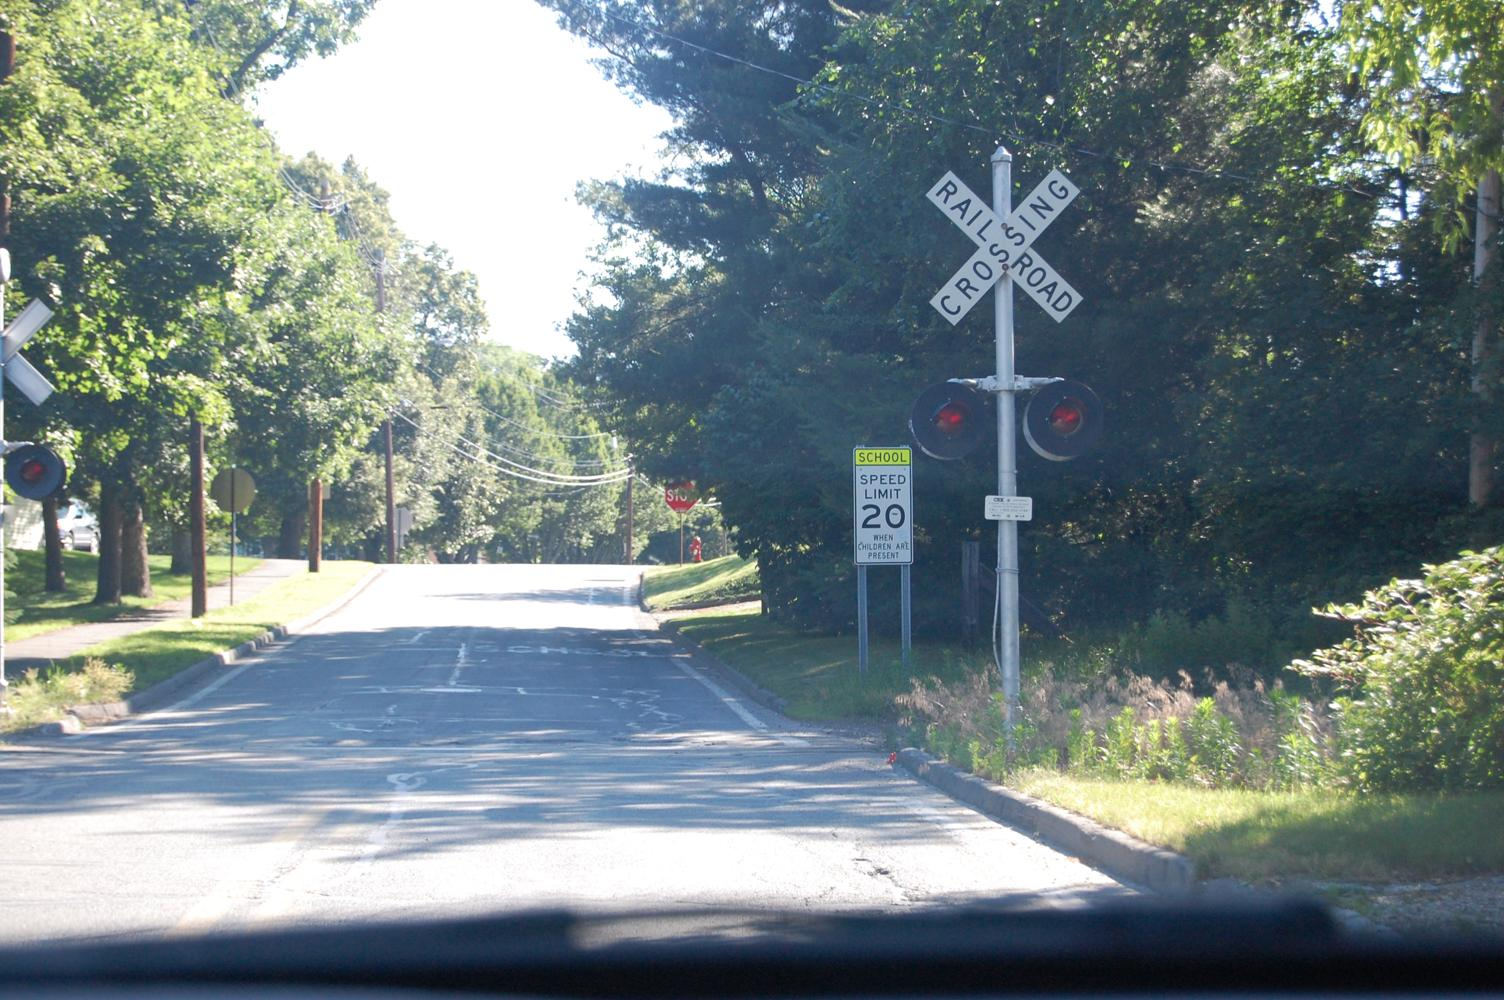stop: (652, 469, 700, 515)
